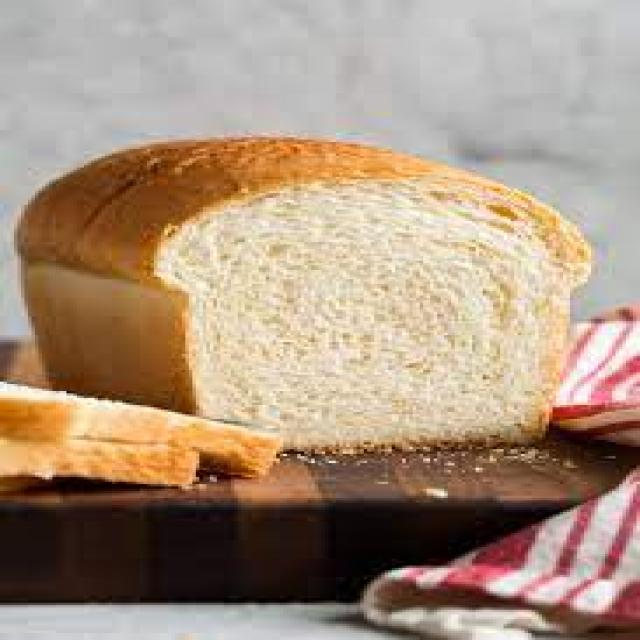bread: (15, 136, 592, 444)
